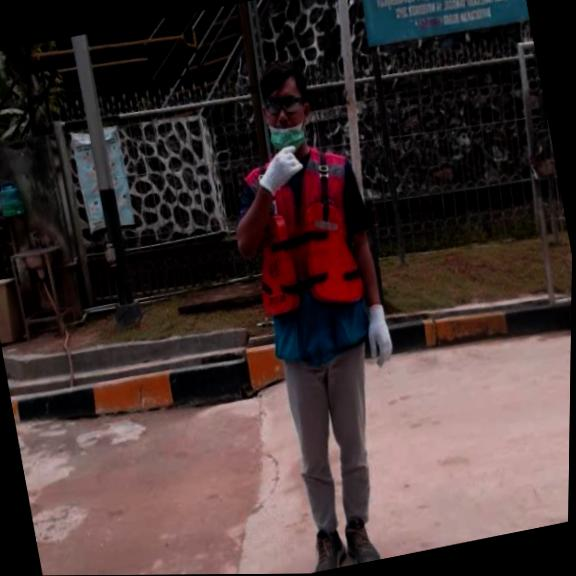safety_vest: (243, 194, 370, 325)
